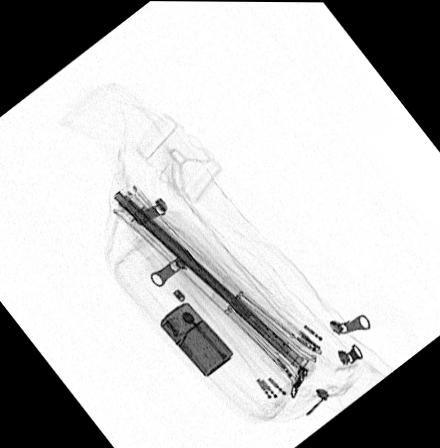Lighter: (159, 302, 234, 378)
